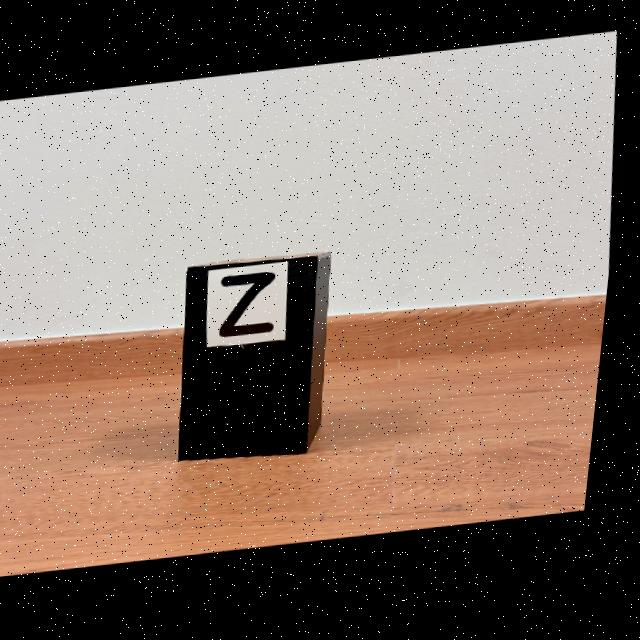Z: (226, 274, 282, 339)
